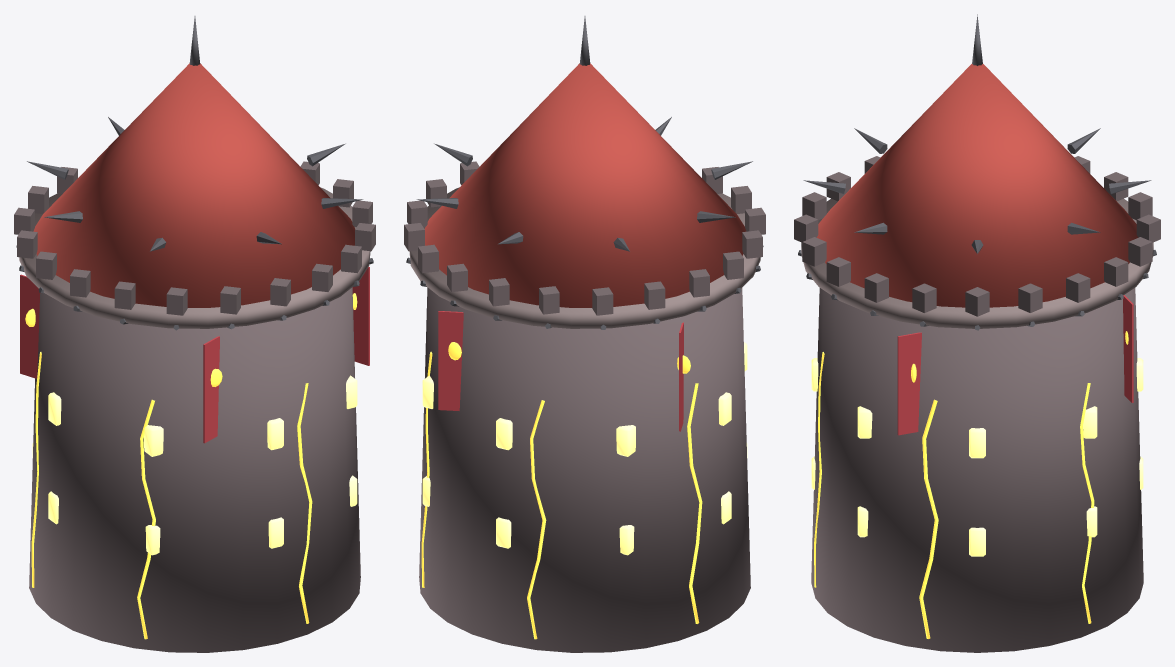
Rendered from tower.glb.
3 renders of one model, left to right at view 1: azimuth 30°, elevation 25°; view 2: azimuth 150°, elevation 25°; view 3: azimuth 270°, elevation 25°, orthographic.
Visible parts, largest first — view 1: LT_Tower; view 2: LT_Tower; view 3: LT_Tower.
Boxes of the visible parts, bbox=[...] form: LT_Tower: bbox=[14, 16, 375, 652]; LT_Tower: bbox=[404, 16, 765, 652]; LT_Tower: bbox=[794, 14, 1160, 652].
Bounding box in the file's own units: 30.4 × 52 × 30.4.
